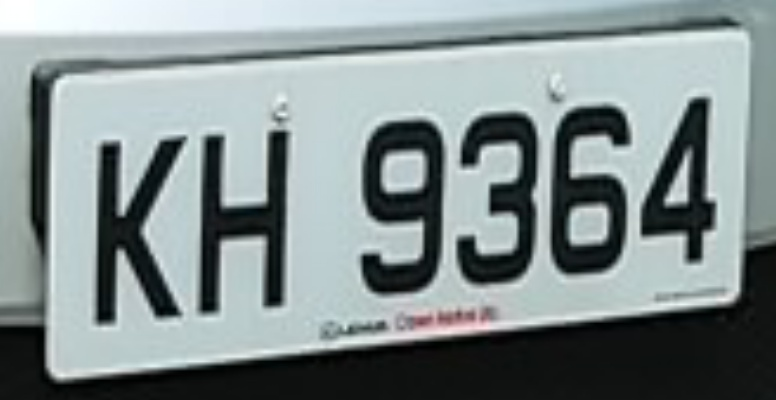3: (445, 96, 547, 307)
4: (631, 71, 728, 283)
6: (539, 86, 639, 292)
9: (342, 102, 459, 315)
H: (185, 118, 322, 343)
K: (81, 109, 193, 348)
